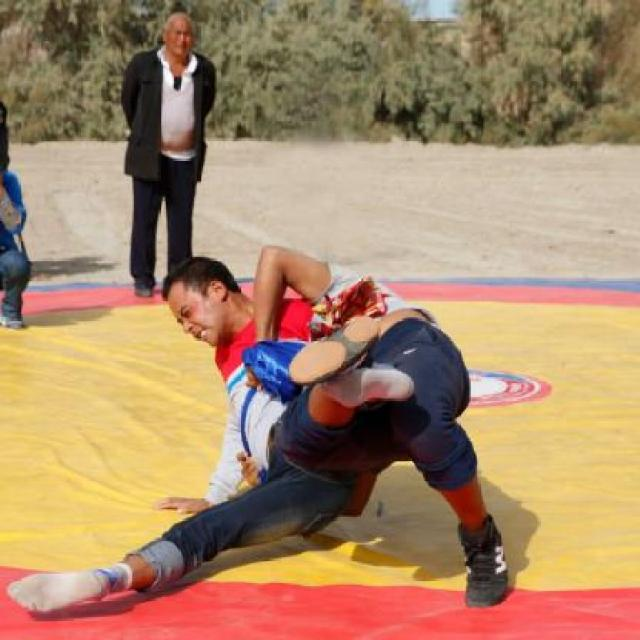fall: (149, 259, 356, 515)
